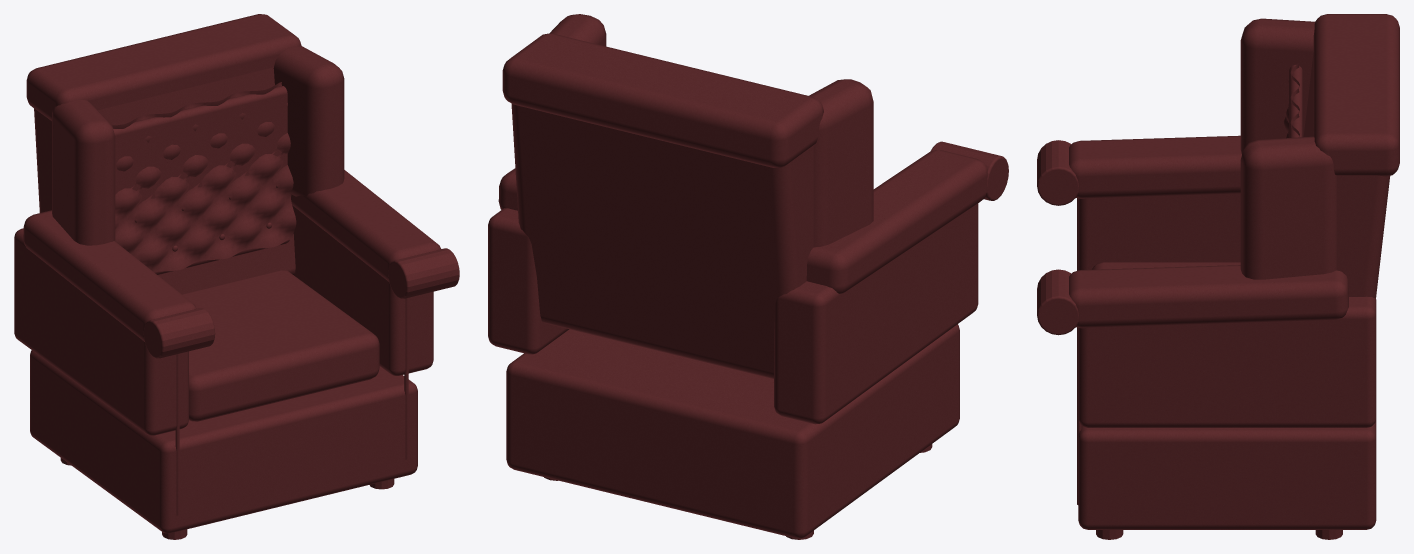
The model's file is FUR_Armchair.fbx.
The picture shows the model from 3 angles, left to right: view 1: azimuth 30°, elevation 25°; view 2: azimuth 150°, elevation 25°; view 3: azimuth 270°, elevation 25°; orthographic projection. The views are drawn at different scales.
Parts seen in each view (by area): view 1: Armchair_Body, Armchair_Cushion; view 2: Armchair_Body; view 3: Armchair_Body, Armchair_Cushion.
Part boxes in pixels (x1,y1,x2,y2): Armchair_Body: [14, 14, 459, 539]; Armchair_Cushion: [182, 270, 379, 421]; Armchair_Body: [488, 14, 1008, 539]; Armchair_Body: [1037, 14, 1399, 539]; Armchair_Cushion: [1092, 262, 1240, 269].
Bounding box in the file's own units: 95 × 114 × 92.5.
